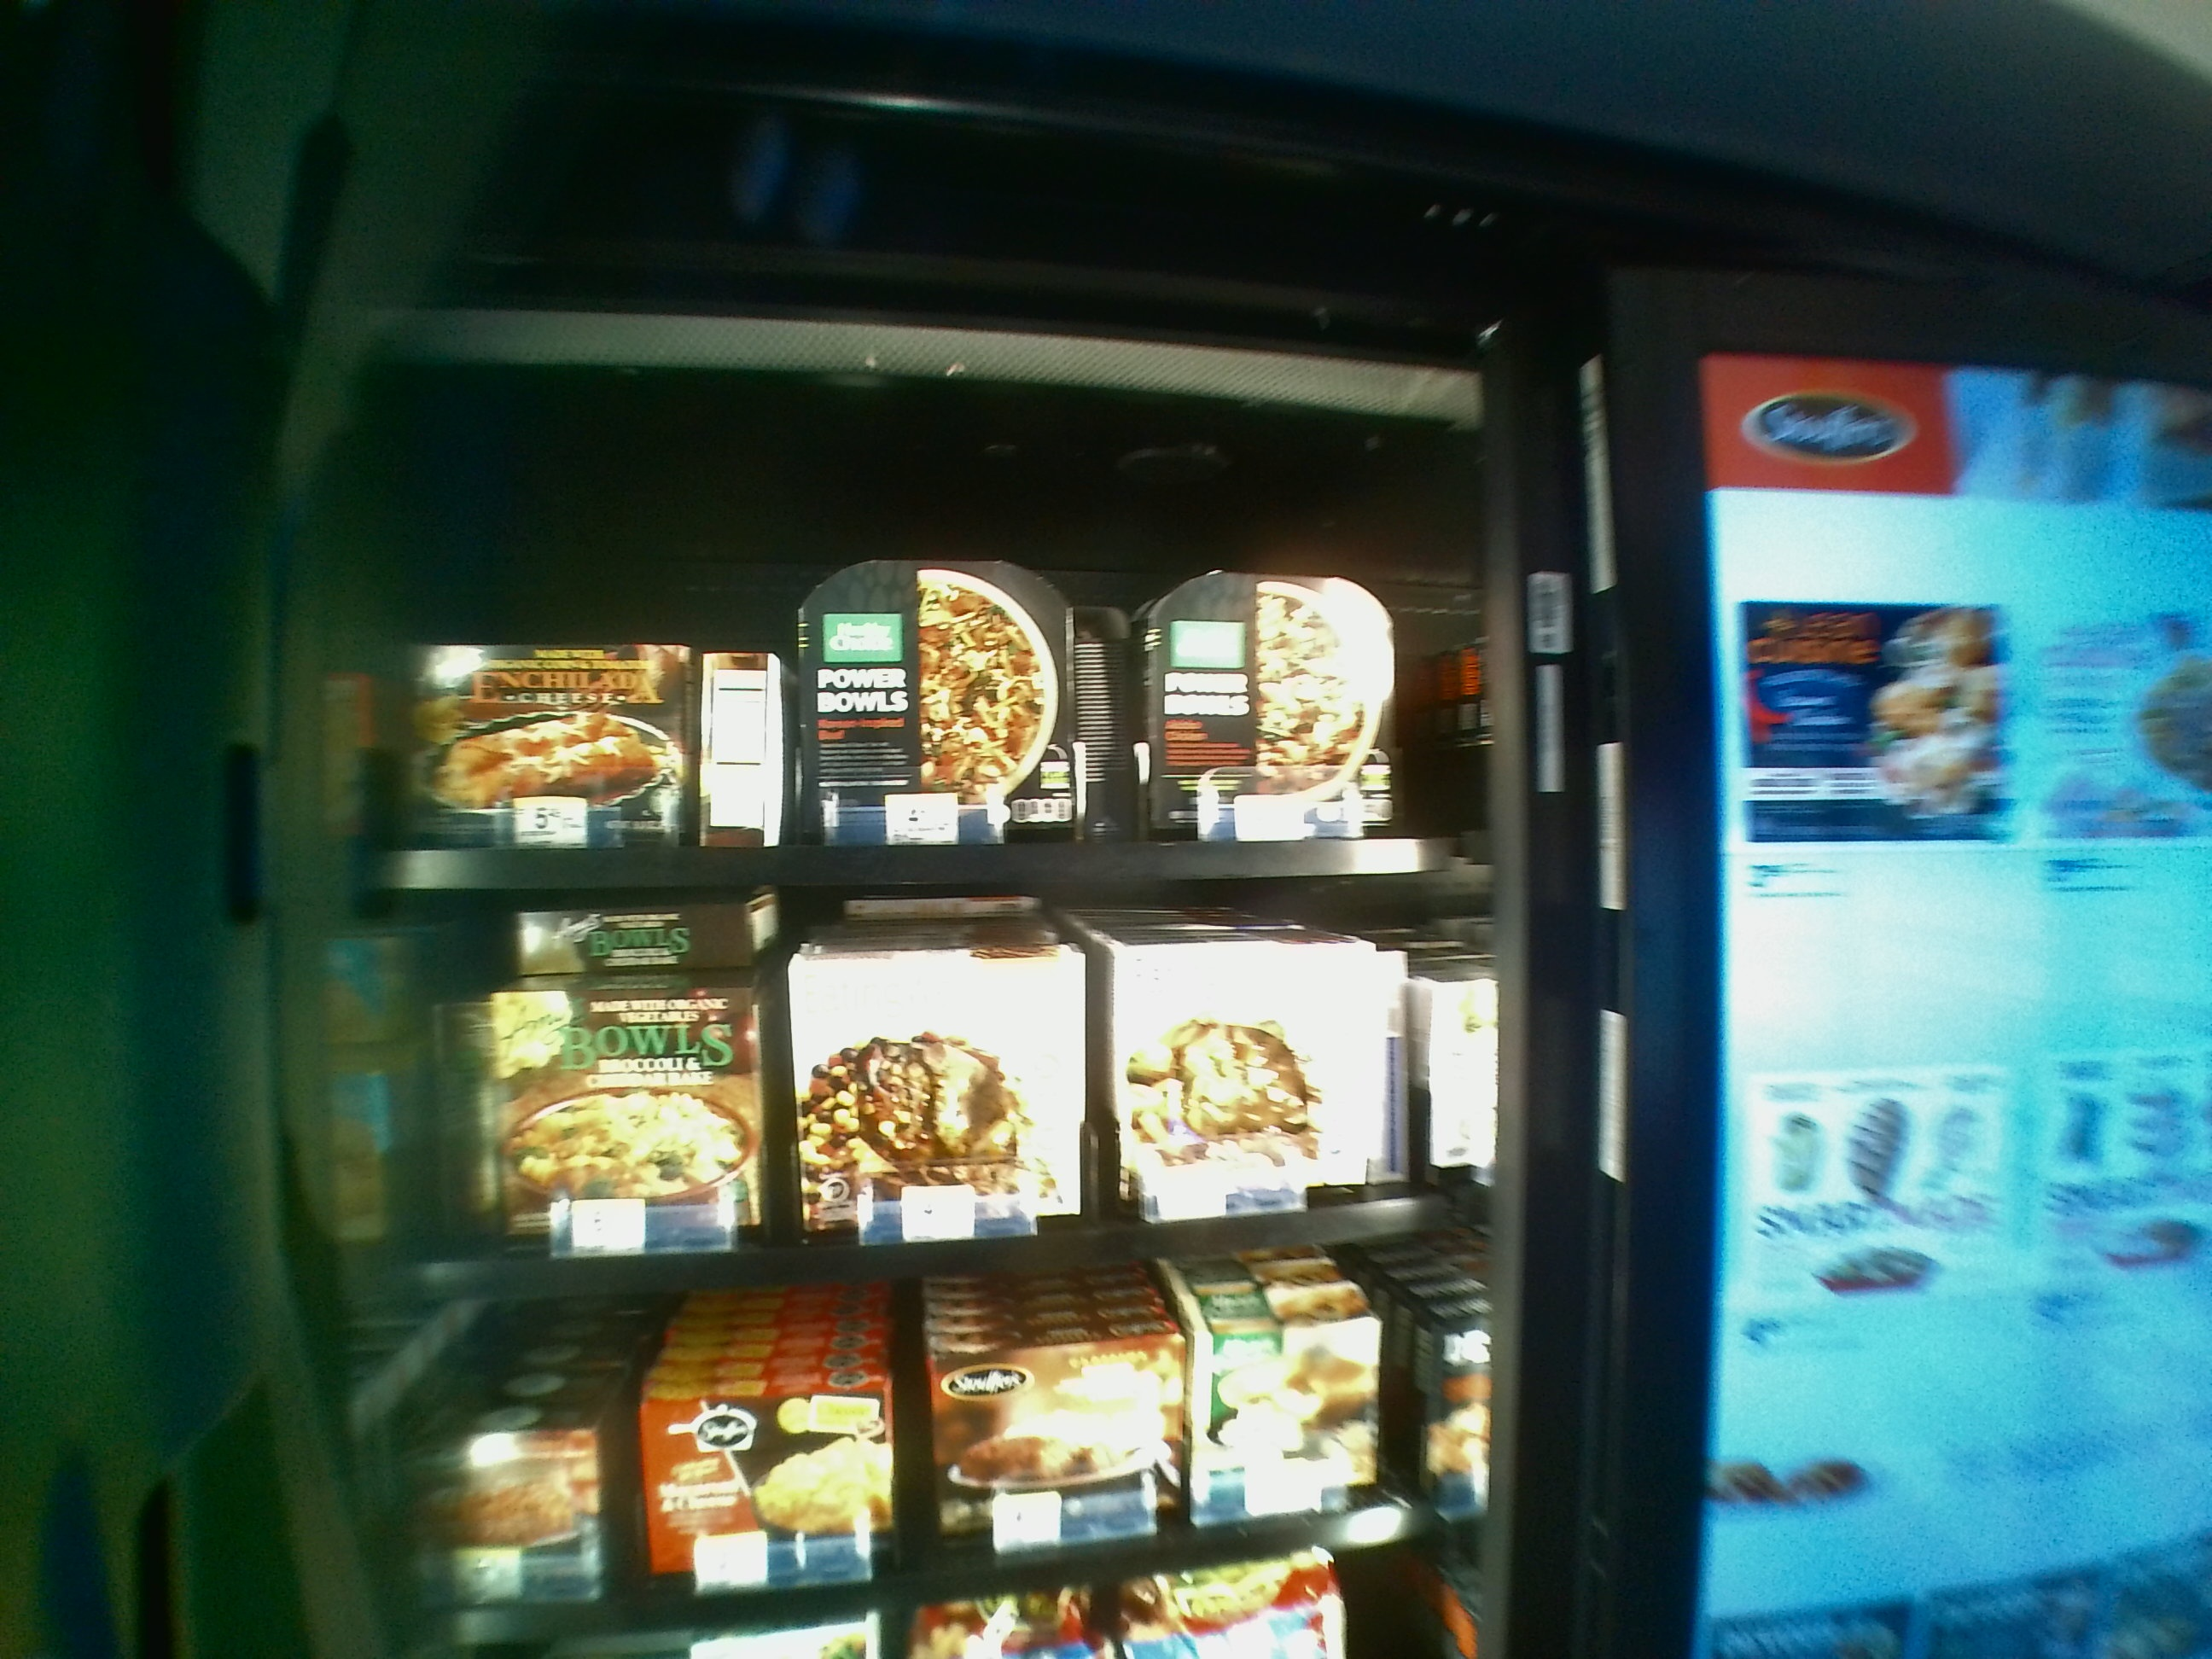shelf: (324, 422, 1486, 897), (329, 910, 1489, 1286)
